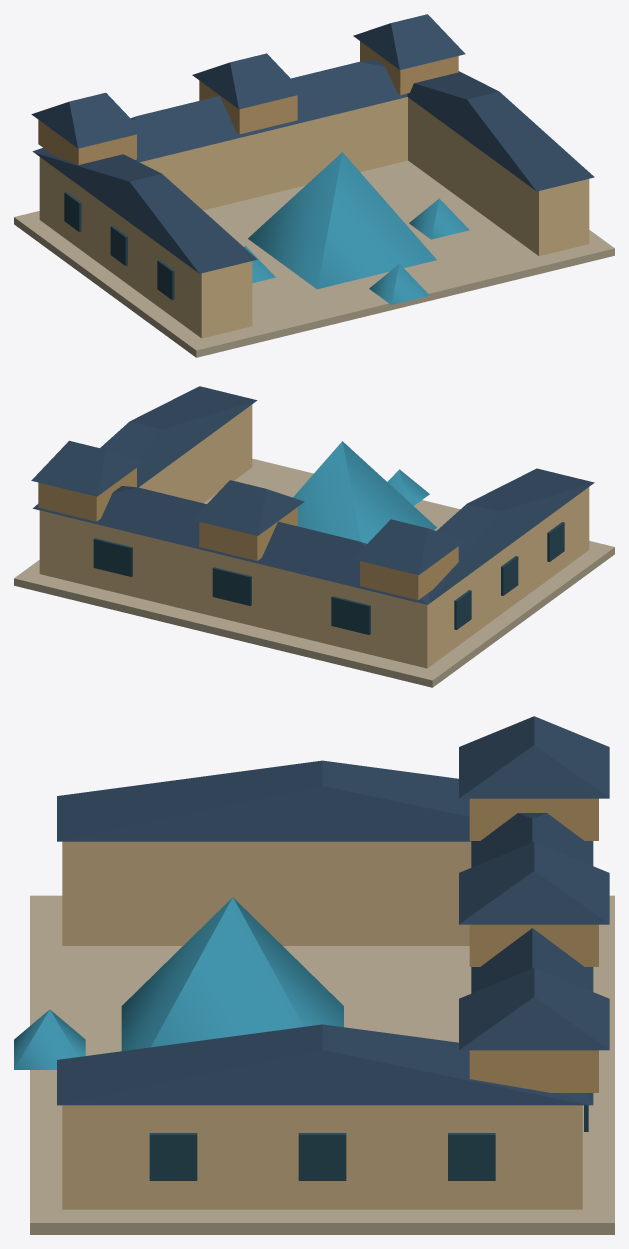
Rendered from louvre.glb.
3 views of the same model, one above another, from view 1: azimuth 30°, elevation 25°; view 2: azimuth 150°, elevation 25°; view 3: azimuth 270°, elevation 25° (orthographic). The views are drawn at different scales.
Visible parts, largest first — view 1: roof_56646A, body_D8CBB3, base_B8B49D, pyramid_8FB1B7, body_D0C1A5, detail_6B6A5B; view 2: body_D8CBB3, roof_56646A, base_B8B49D, pyramid_8FB1B7, body_D0C1A5, detail_6B6A5B; view 3: roof_56646A, body_D8CBB3, base_B8B49D, pyramid_8FB1B7, body_D0C1A5, detail_6B6A5B.
Part boxes in pixels (x1=…): roof_56646A: x1=31, y1=14, x2=594, y2=273; body_D8CBB3: x1=39, y1=97, x2=589, y2=338; base_B8B49D: x1=14, y1=160, x2=614, y2=357; pyramid_8FB1B7: x1=244, y1=152, x2=469, y2=304; body_D0C1A5: x1=38, y1=41, x2=458, y2=164; detail_6B6A5B: x1=64, y1=192, x2=174, y2=300; body_D8CBB3: x1=39, y1=404, x2=589, y2=668; roof_56646A: x1=31, y1=386, x2=594, y2=604; base_B8B49D: x1=14, y1=458, x2=614, y2=687; pyramid_8FB1B7: x1=293, y1=441, x2=436, y2=543; body_D0C1A5: x1=38, y1=468, x2=458, y2=600; detail_6B6A5B: x1=93, y1=522, x2=564, y2=634; roof_56646A: x1=57, y1=716, x2=609, y2=1105; body_D8CBB3: x1=62, y1=841, x2=582, y2=1209; base_B8B49D: x1=30, y1=895, x2=614, y2=1234; pyramid_8FB1B7: x1=14, y1=897, x2=343, y2=1069; body_D0C1A5: x1=469, y1=798, x2=598, y2=1092; detail_6B6A5B: x1=149, y1=1105, x2=588, y2=1180.
Bounding box in the file's own units: 1 × 0.3056 × 0.7755.
